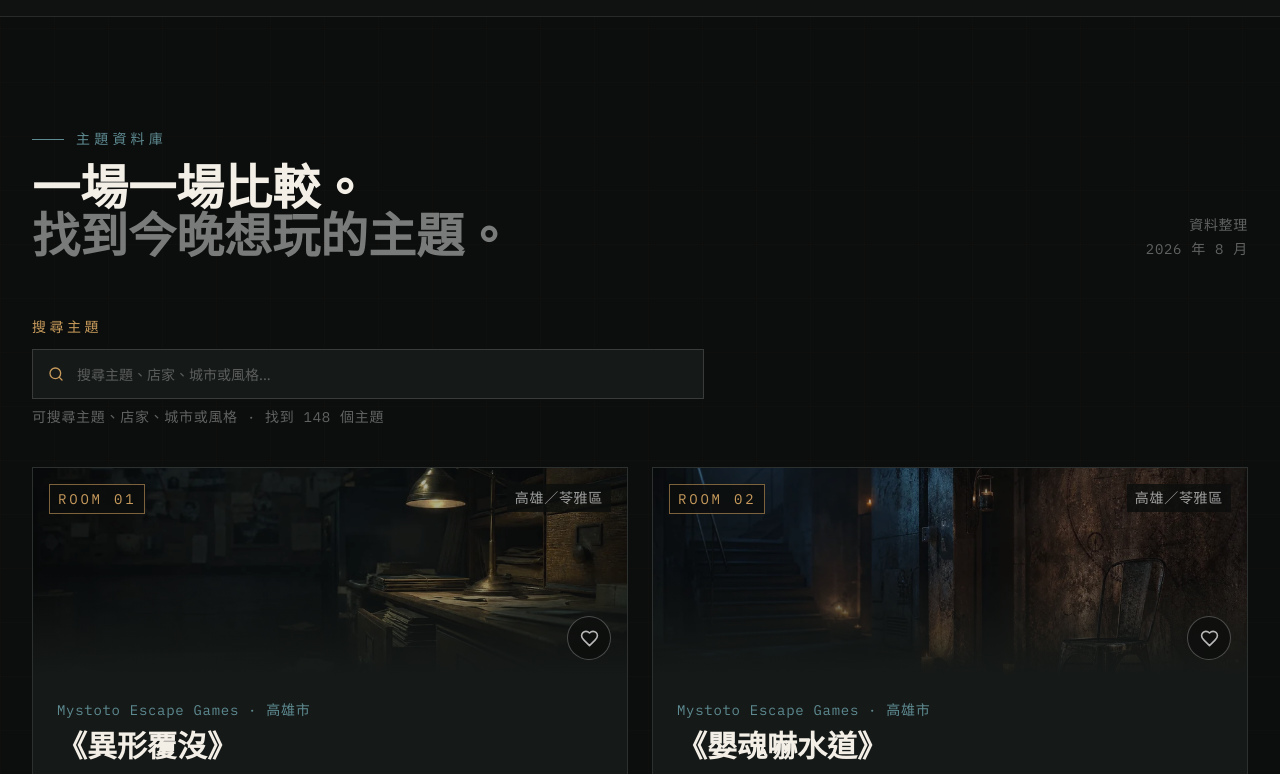
Test: Home booking CTA layout › renders the Adventurer Guild CTA on exactly the three Taichung topic cards
The image size is (1280, 774).
(page scrolled)
Type "神不在場實境遊戲｜台中旗艦館" into the field labelled "搜尋主題".
click(368, 374); type("神不在場實境遊戲｜台中旗艦館")  # box top-left (32, 349), bottom-right (704, 399)
(page scrolled)
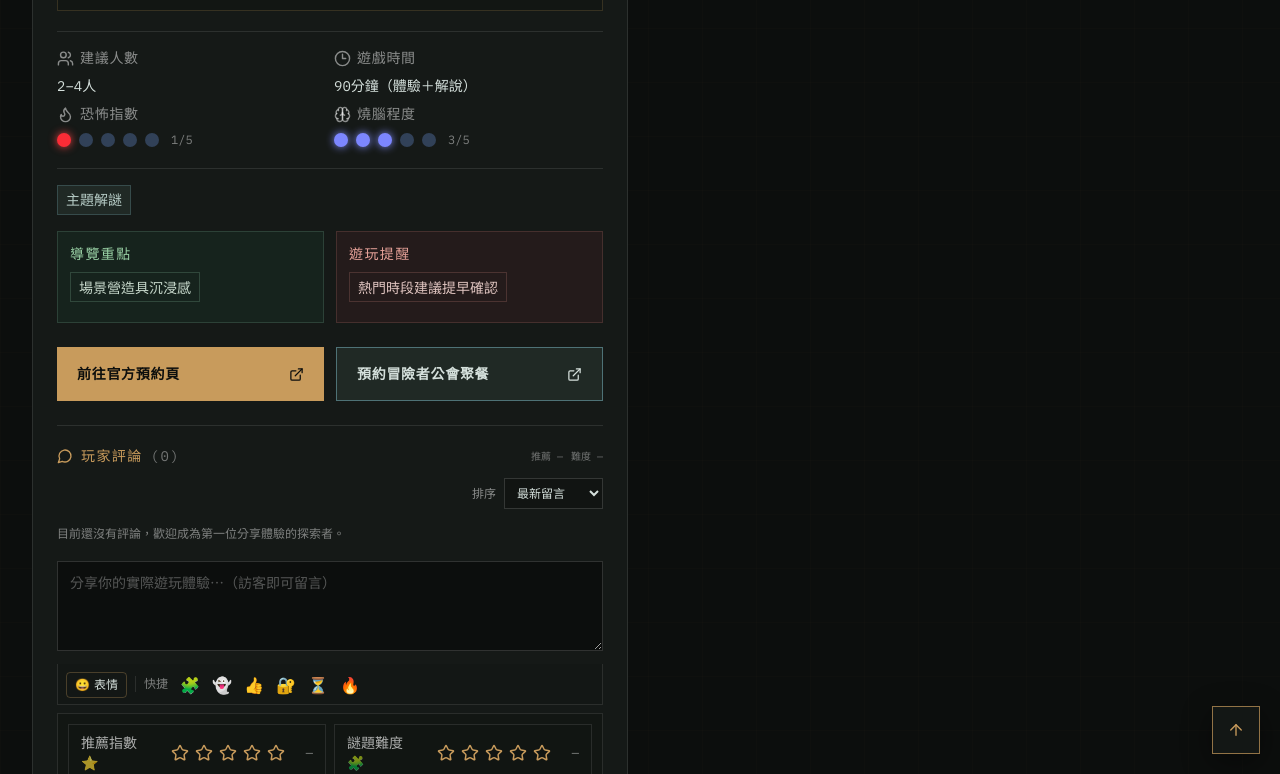
Expected: the number of links "預約冒險者公會聚餐" is 3
